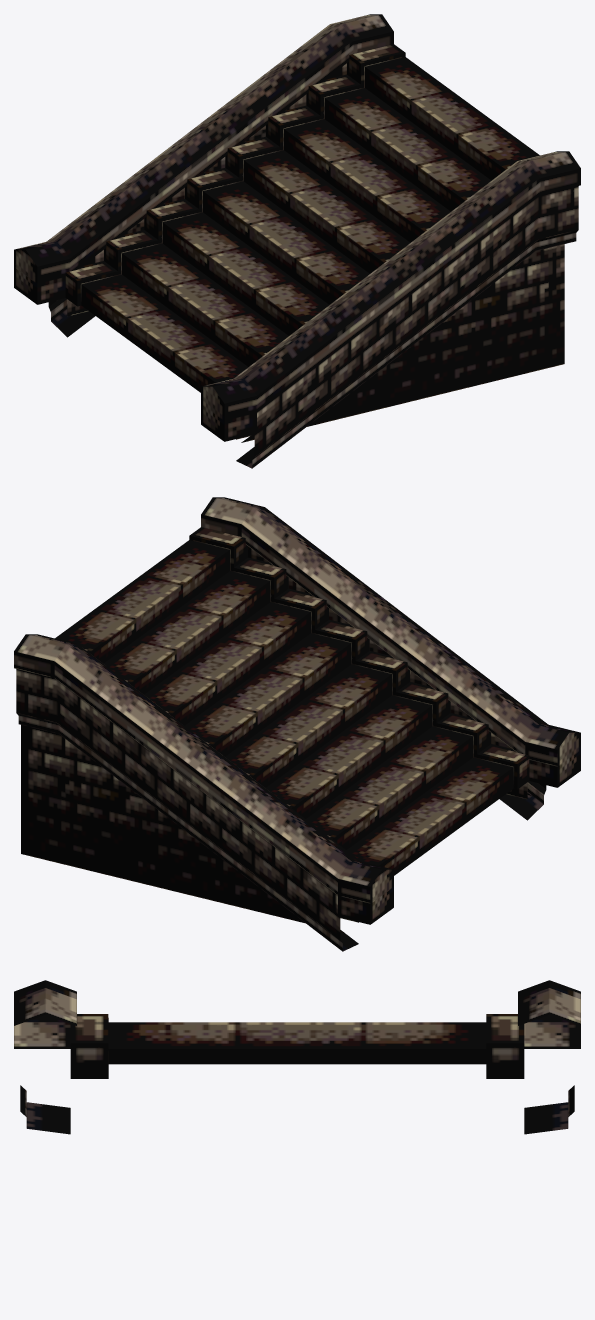
The model's file is SM_floor01.fbx.
3 views of the same model, one above another, from view 1: azimuth 30°, elevation 25°; view 2: azimuth 150°, elevation 25°; view 3: azimuth 270°, elevation 25° (orthographic). The views are drawn at different scales.
Visible parts, largest first — view 1: SM_floor01; view 2: SM_floor01; view 3: SM_floor01.
Part boxes in pixels (box(x1,y1,x2,y2)): SM_floor01: box(14, 14, 580, 468); SM_floor01: box(14, 497, 580, 951); SM_floor01: box(14, 980, 580, 1134).
Bounding box in the file's own units: 440 × 280 × 450.
